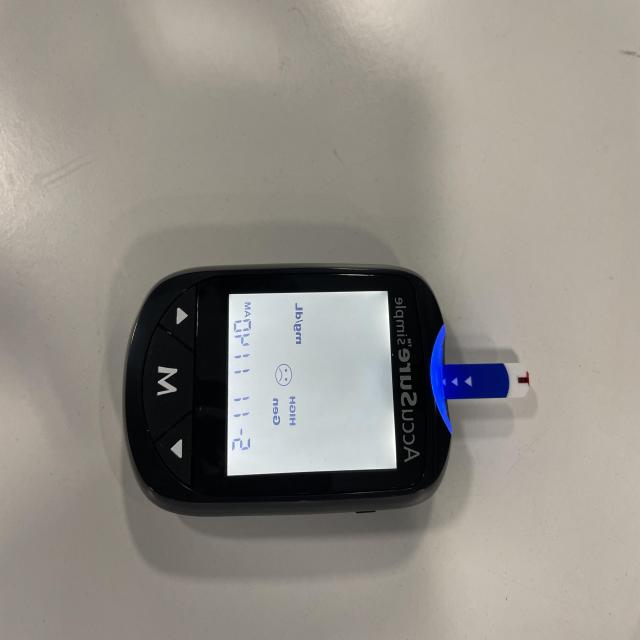gluco: (120, 263, 453, 511)
